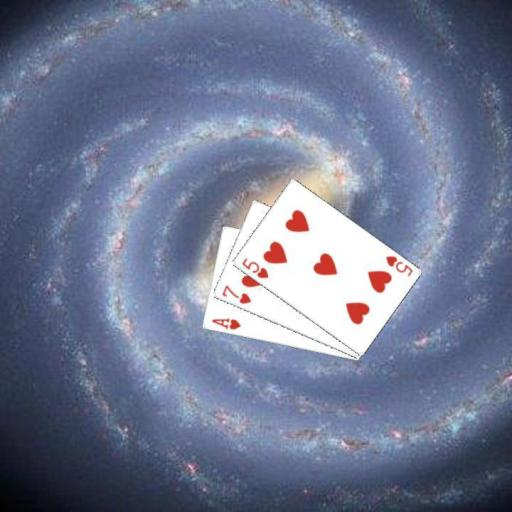card-corner: (382, 252, 414, 278), (218, 282, 252, 306), (238, 255, 270, 280), (208, 315, 242, 331)
